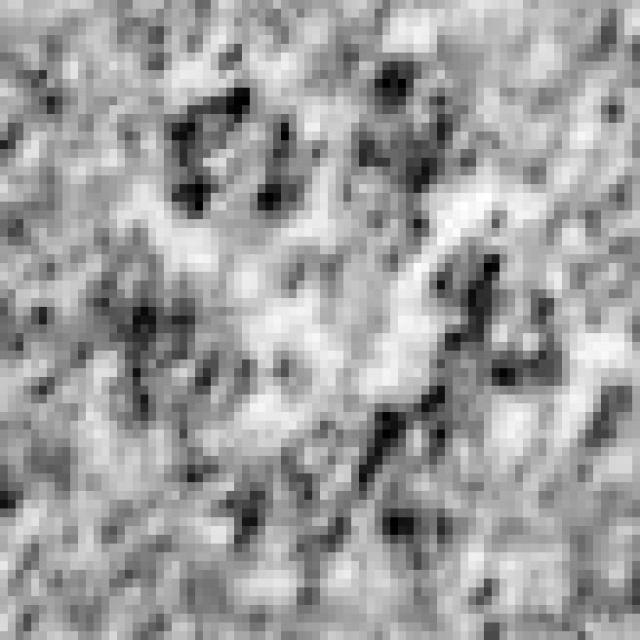inner: (242, 233, 409, 419)
lobe: (338, 53, 479, 272), (426, 226, 577, 404), (359, 380, 490, 576), (106, 268, 260, 428), (156, 85, 320, 232), (219, 417, 351, 597)
outer: (81, 17, 628, 639)
